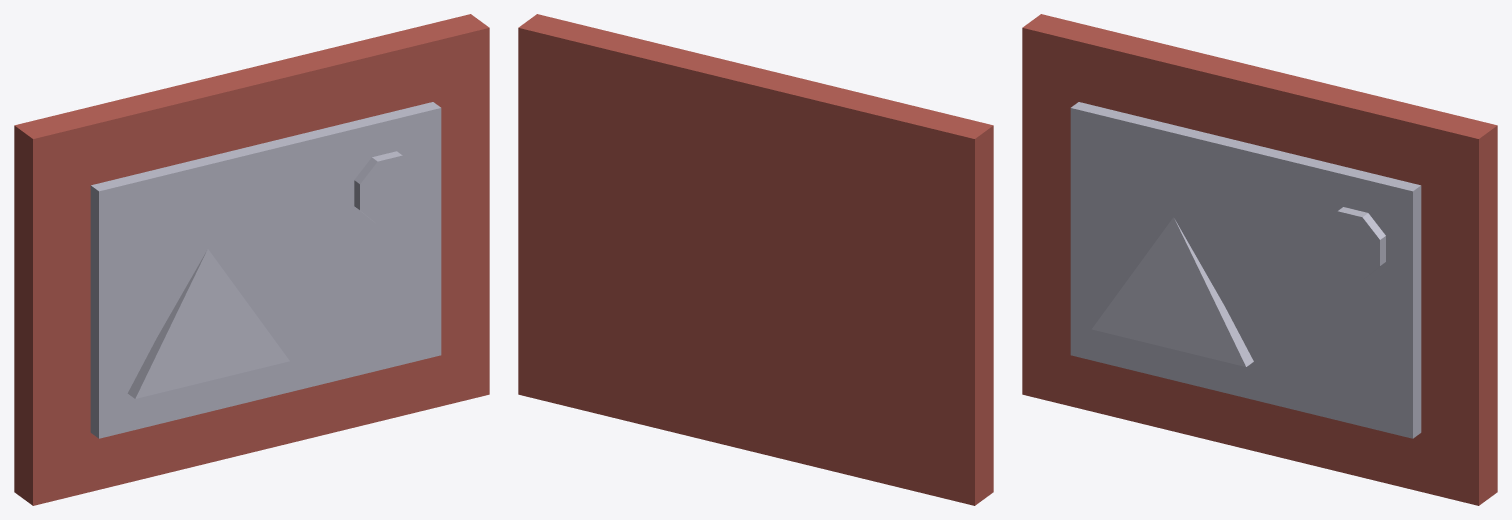
Rendered from polaroids.obj.
The picture shows the model from 3 angles, left to right: view 1: azimuth 30°, elevation 25°; view 2: azimuth 150°, elevation 25°; view 3: azimuth 330°, elevation 25°; orthographic projection.
Visible parts, largest first — view 1: warm-picture-frame, inset-print, tiny-mountain-print, little-sun-print; view 2: warm-picture-frame; view 3: warm-picture-frame, inset-print, tiny-mountain-print, little-sun-print.
Boxes of the visible parts, box(x1,y1,x2,y2) form: warm-picture-frame: box(14, 14, 489, 505); inset-print: box(90, 102, 441, 438); tiny-mountain-print: box(127, 249, 289, 398); little-sun-print: box(354, 151, 420, 224); warm-picture-frame: box(518, 14, 993, 505); warm-picture-frame: box(1022, 14, 1497, 505); inset-print: box(1070, 102, 1421, 438); tiny-mountain-print: box(1091, 217, 1253, 366); little-sun-print: box(1320, 207, 1385, 280).
Size of the model in its own units: 1.12 by 0.86 by 0.15.
